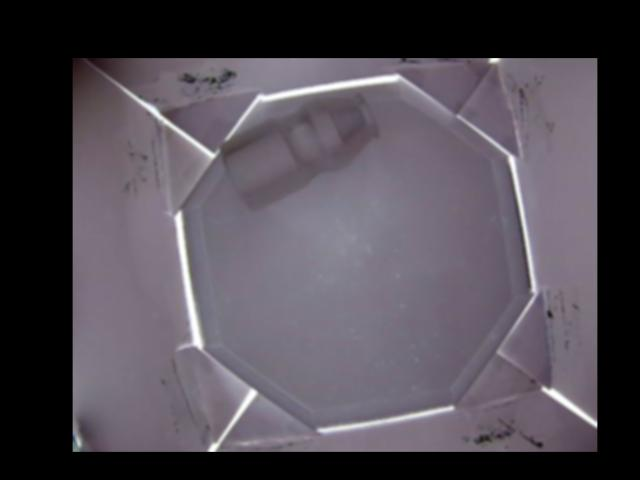Bottle: (219, 92, 380, 218)
